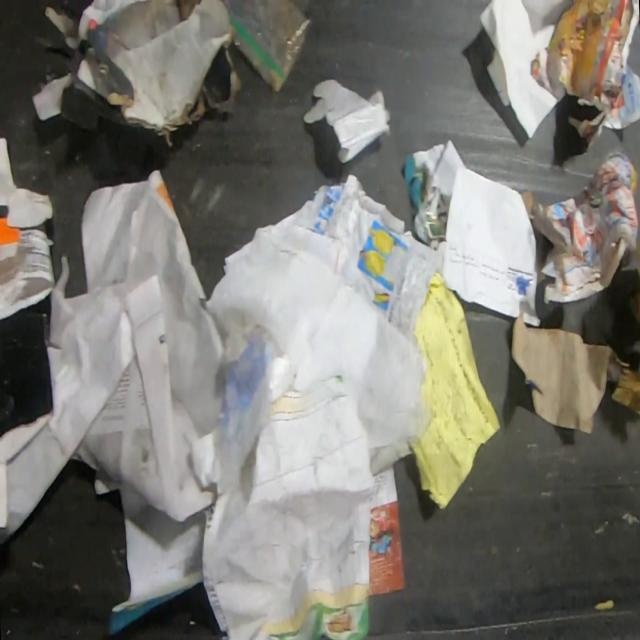cardboard: (30, 0, 244, 151), (510, 313, 632, 435)
soft_plastic: (302, 77, 392, 166)
